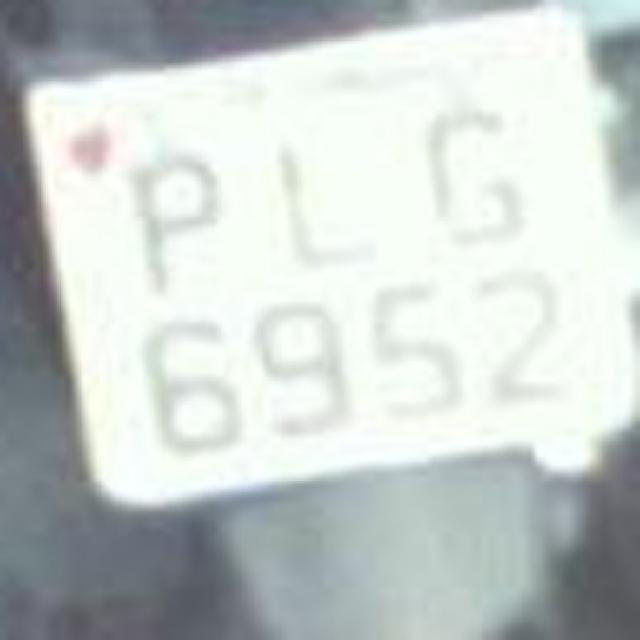2: (449, 240, 596, 432)
5: (355, 256, 480, 432)
6: (111, 280, 264, 475)
9: (232, 268, 368, 448)
F: (560, 20, 635, 268)
J: (249, 104, 396, 288)
P: (120, 128, 240, 304)
